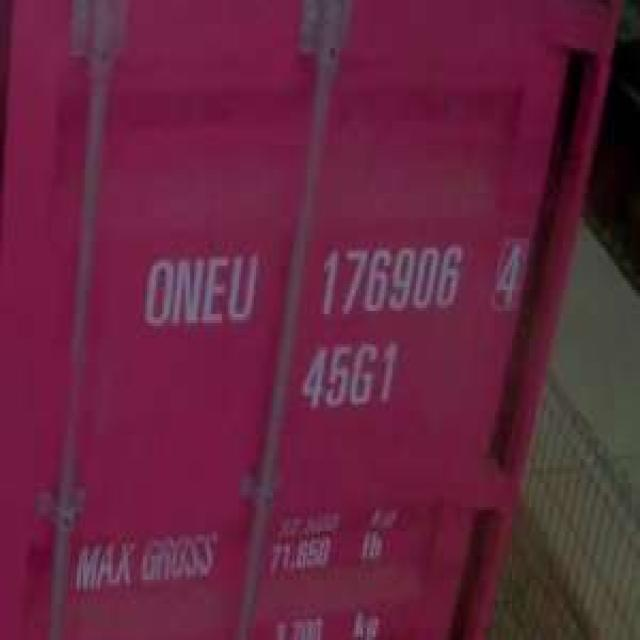dv: (492, 232, 527, 314)
owner: (135, 246, 260, 332)
serial: (316, 240, 462, 322)
size: (295, 336, 402, 411)
